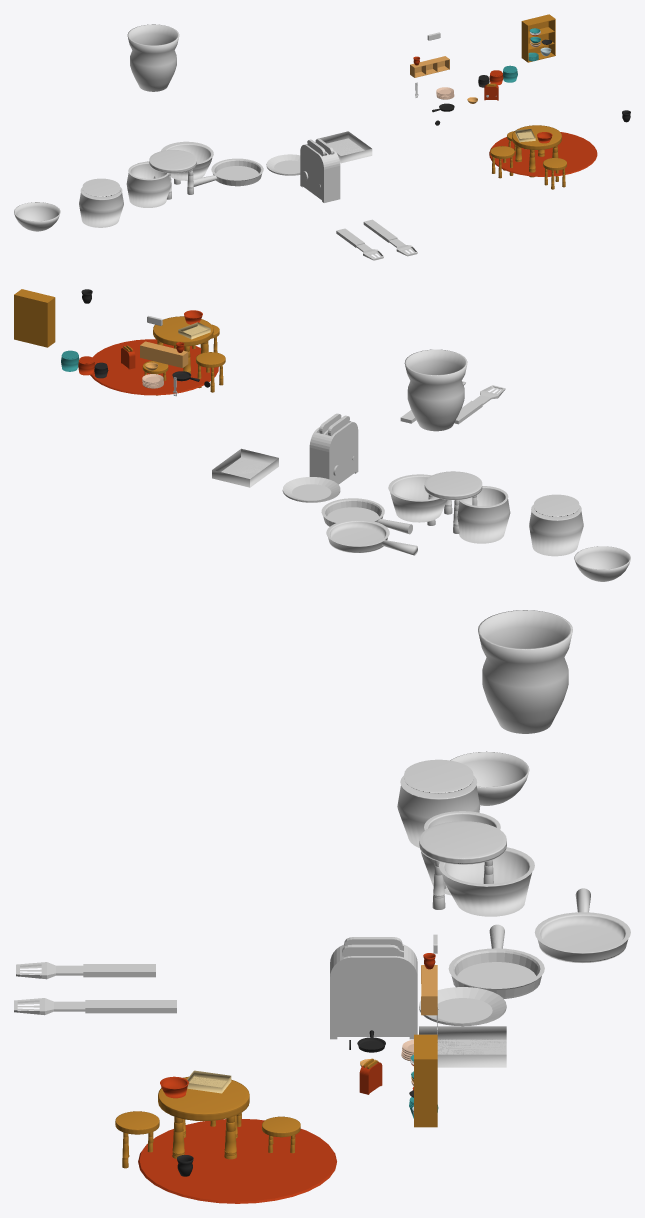
The model's file is kitchen_object.fbx.
3 renders of one model, top to bottom at view 1: azimuth 30°, elevation 25°; view 2: azimuth 150°, elevation 25°; view 3: azimuth 270°, elevation 25°, orthographic. The views are drawn at different scales.
Parts seen in each view (by area): view 1: vase, tapis, bocal, Plane, bol 2, poele not smooth, étagère, table, bol, Plane.002, Cylinder, saladier (+5 smaller); view 2: vase, tapis, bocal, bol 2, Plane, étagère, poele smooth, saladier, Plane.002, poele not smooth, bol, Cylinder (+5 smaller); view 3: tapis, vase, Plane, bocal, saladier, poele smooth, poele not smooth, table, Cylinder, Plane.002, bol, assiette1 (+8 smaller).
Boxes of the visible parts, left/top/right/bottom form: vase: left=127, top=24, right=179, bottom=91; tapis: left=489, top=132, right=597, bottom=176; bocal: left=79, top=178, right=123, bottom=227; Plane: left=300, top=144, right=340, bottom=202; bol 2: left=126, top=162, right=171, bottom=207; poele not smooth: left=193, top=158, right=263, bottom=186; étagère: left=521, top=14, right=555, bottom=62; table: left=512, top=125, right=561, bottom=177; bol: left=14, top=202, right=60, bottom=231; Plane.002: left=317, top=131, right=372, bottom=163; Cylinder: left=149, top=150, right=196, bottom=173; saladier: left=163, top=142, right=213, bottom=180; vase: left=404, top=349, right=467, bottom=431; tapis: left=90, top=339, right=218, bottom=395; bocal: left=529, top=494, right=583, bottom=556; bol 2: left=457, top=486, right=510, bottom=543; Plane: left=309, top=421, right=358, bottom=484; étagère: left=14, top=289, right=55, bottom=347; poele smooth: left=326, top=519, right=417, bottom=555; saladier: left=388, top=474, right=447, bottom=522; Plane.002: left=212, top=448, right=278, bottom=487; poele not smooth: left=321, top=498, right=412, bottom=534; bol: left=574, top=546, right=630, bottom=581; Cylinder: left=424, top=471, right=482, bottom=499; tapis: left=138, top=1118, right=336, bottom=1203; vase: left=478, top=610, right=572, bottom=733; Plane: left=330, top=944, right=417, bottom=1039; bocal: left=397, top=759, right=480, bottom=847; saladier: left=438, top=847, right=534, bottom=916; poele smooth: left=534, top=888, right=630, bottom=962; poele not smooth: left=448, top=924, right=544, bottom=998; table: left=158, top=1076, right=249, bottom=1159; Cylinder: left=419, top=821, right=506, bottom=864; Plane.002: left=419, top=1026, right=506, bottom=1067; bol: left=450, top=751, right=529, bottom=805; assiette1: left=419, top=987, right=506, bottom=1026.
Bounding box in the file's own units: 2572 × 730 × 1408.
